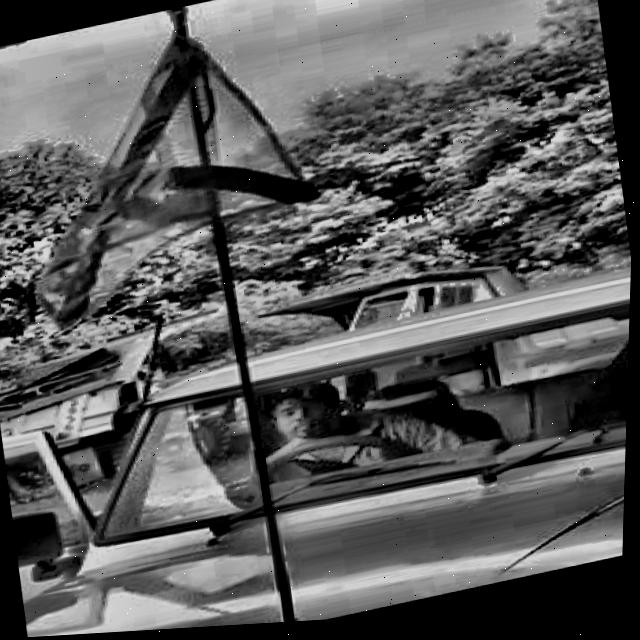light_vehicle: (0, 270, 633, 640)
